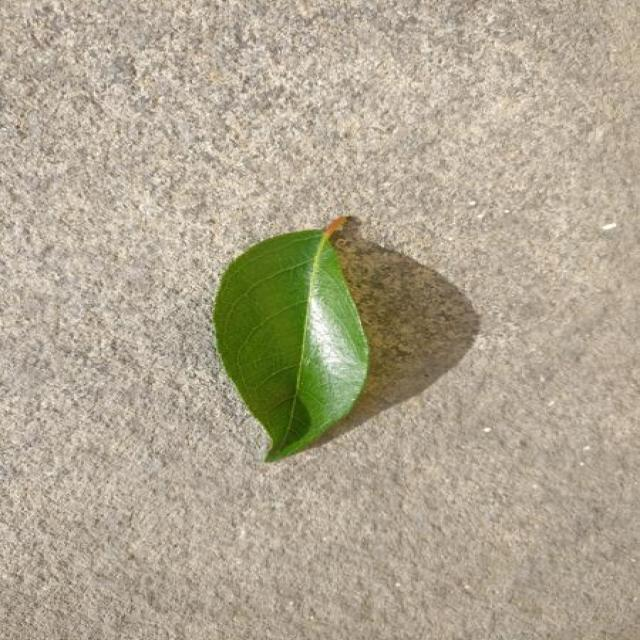curry: (217, 218, 368, 461)
